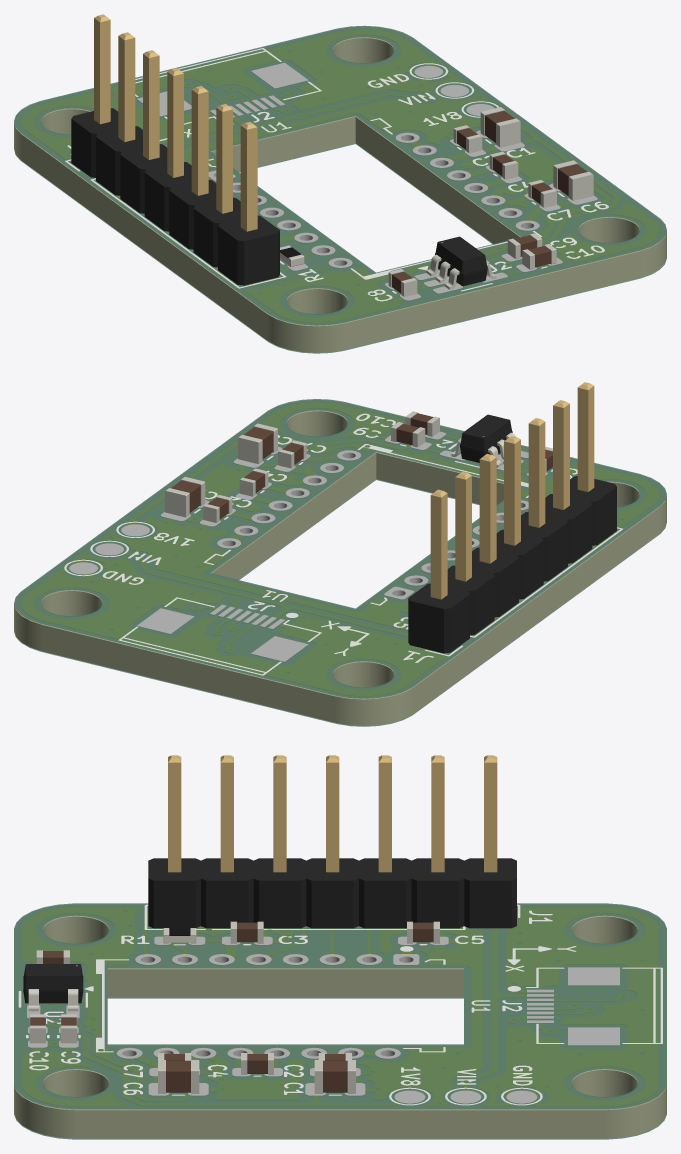
The model's file is board.glb.
The picture shows the model from 3 angles, top to bottom: view 1: azimuth 30°, elevation 25°; view 2: azimuth 150°, elevation 25°; view 3: azimuth 270°, elevation 25°; orthographic projection. The views are drawn at different scales.
Visible parts, largest first — view 1: board_soldermask (×2), board_PCB, PinHeader_1x07_P254mm_Vertical, board_copper, board_pad, board_silkscreen, C_0603_1608Metric (×6), C_0805_2012Metric (×2), SOT-23-5; view 2: board_soldermask (×2), board_PCB, PinHeader_1x07_P254mm_Vertical, board_copper, board_pad, board_silkscreen, C_0603_1608Metric (×5), C_0805_2012Metric (×2), SOT-23-5; view 3: board_soldermask (×2), board_PCB, PinHeader_1x07_P254mm_Vertical, board_copper, board_pad, board_silkscreen, C_0805_2012Metric (×2), SOT-23-5, C_0603_1608Metric (×3).
Part boxes in pixels (left/top/right/bottom): board_soldermask (×2): left=14, top=25, right=666, bottom=353; board_PCB: left=14, top=27, right=666, bottom=352; PinHeader_1x07_P254mm_Vertical: left=71, top=14, right=279, bottom=285; board_copper: left=21, top=29, right=659, bottom=322; board_pad: left=137, top=63, right=597, bottom=300; board_silkscreen: left=65, top=48, right=608, bottom=301; C_0603_1608Metric (×6): left=388, top=125, right=556, bottom=296; C_0805_2012Metric (×2): left=480, top=107, right=593, bottom=200; SOT-23-5: left=426, top=236, right=496, bottom=289; board_soldermask (×2): left=14, top=399, right=666, bottom=726; board_PCB: left=14, top=400, right=666, bottom=725; PinHeader_1x07_P254mm_Vertical: left=408, top=382, right=616, bottom=653; board_copper: left=21, top=403, right=659, bottom=695; board_pad: left=69, top=431, right=547, bottom=661; board_silkscreen: left=64, top=413, right=622, bottom=675; C_0603_1608Metric (×5): left=203, top=411, right=439, bottom=522; C_0805_2012Metric (×2): left=165, top=423, right=277, bottom=517; SOT-23-5: left=451, top=414, right=521, bottom=467; board_soldermask (×2): left=14, top=903, right=666, bottom=1139; board_PCB: left=14, top=905, right=666, bottom=1138; PinHeader_1x07_P254mm_Vertical: left=148, top=755, right=516, bottom=928; board_copper: left=23, top=908, right=657, bottom=1105; board_pad: left=27, top=936, right=619, bottom=1103; board_silkscreen: left=18, top=904, right=662, bottom=1105; C_0805_2012Metric (×2): left=158, top=1060, right=355, bottom=1093; SOT-23-5: left=23, top=964, right=83, bottom=1011; C_0603_1608Metric (×3): left=230, top=921, right=439, bottom=1074.
Bounding box in the file's own units: 0.0235 × 0.0115 × 0.0315.
